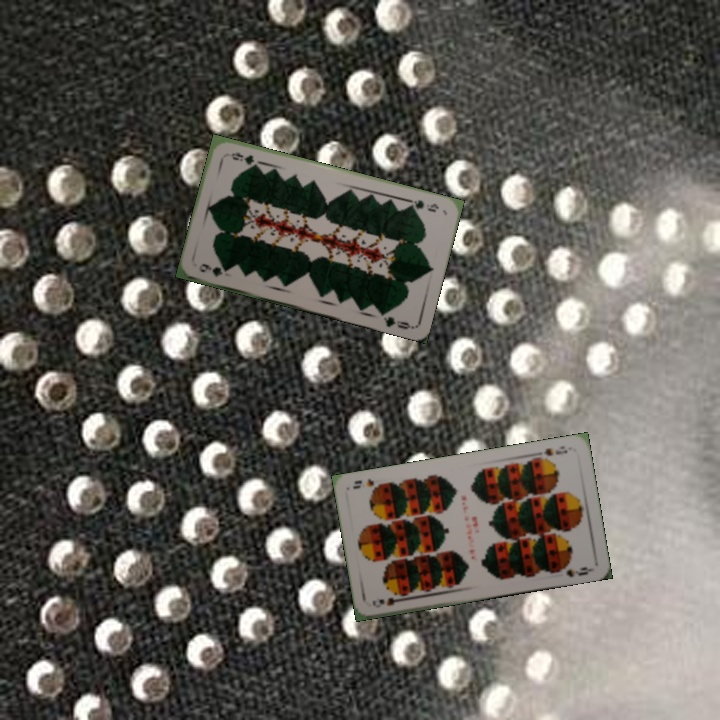G9: (404, 195, 441, 215), (196, 259, 231, 280)
S9: (368, 590, 408, 610), (534, 442, 570, 458)
